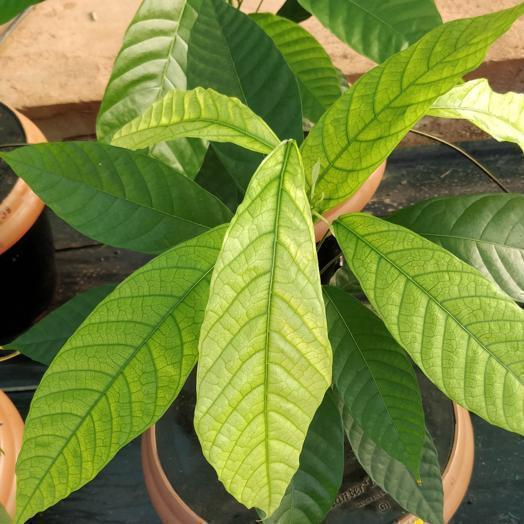Healthy Leaf: (324, 286, 423, 465), (187, 0, 301, 140), (388, 194, 523, 303), (97, 0, 202, 140), (343, 408, 443, 523), (263, 389, 343, 523), (249, 13, 341, 122), (299, 0, 441, 62), (7, 284, 115, 365), (213, 144, 261, 189), (148, 139, 203, 177)
Iron: (16, 225, 224, 521), (195, 141, 331, 514), (302, 3, 523, 211), (334, 214, 523, 433), (1, 141, 231, 254), (110, 87, 279, 153)
